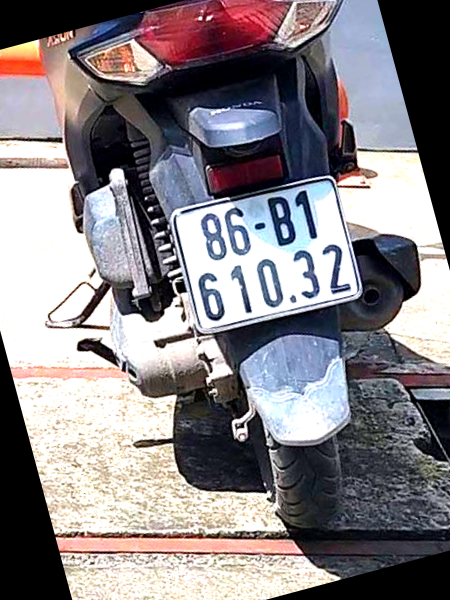number: (172, 177, 360, 326)
